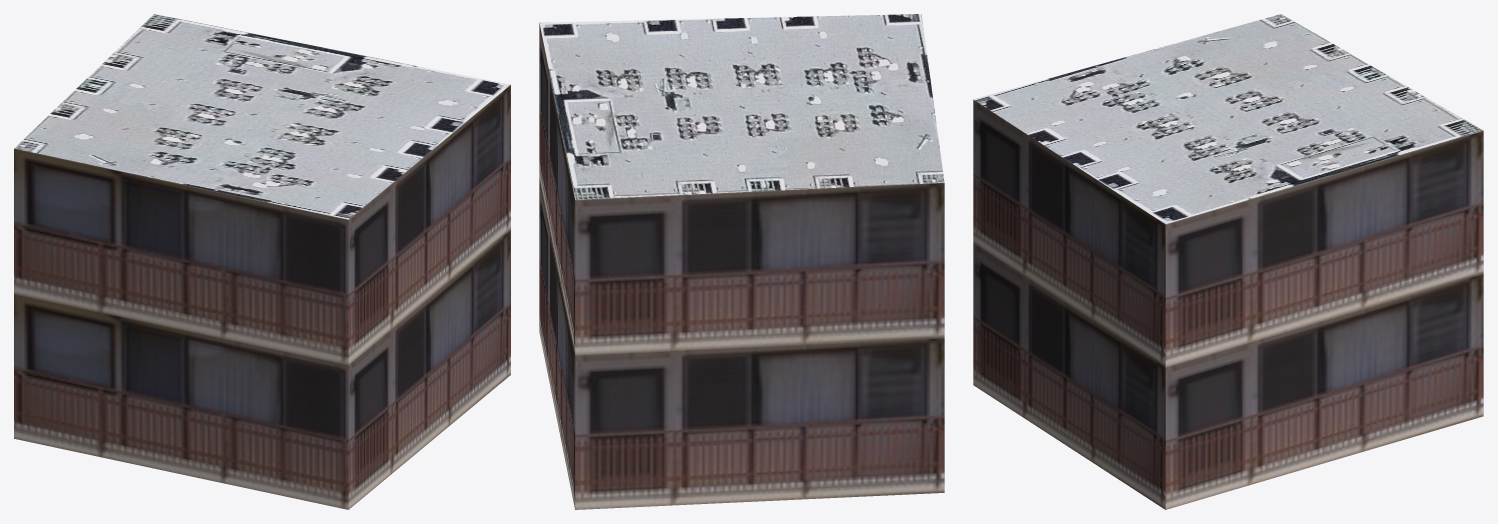
The model's file is ResTex__44.fbx.
3 renders of one model, left to right at view 1: azimuth 30°, elevation 25°; view 2: azimuth 150°, elevation 25°; view 3: azimuth 270°, elevation 25°, orthographic. The views are drawn at different scales.
Parts seen in each view (by area): view 1: CityEngineMaterial_6_m, CityEngineMaterial_m; view 2: CityEngineMaterial_6_m, CityEngineMaterial_m; view 3: CityEngineMaterial_6_m, CityEngineMaterial_m.
Part boxes in pixels (x1=…): CityEngineMaterial_6_m: x1=14, y1=85, x2=510, y2=509; CityEngineMaterial_m: x1=14, y1=14, x2=510, y2=219; CityEngineMaterial_6_m: x1=539, y1=23, x2=944, y2=509; CityEngineMaterial_m: x1=539, y1=14, x2=944, y2=199; CityEngineMaterial_6_m: x1=973, y1=100, x2=1483, y2=509; CityEngineMaterial_m: x1=973, y1=14, x2=1483, y2=224.
Size of the model in its own units: 9.47 by 6 by 9.72.
Materials: 2 (2 with a texture image).
